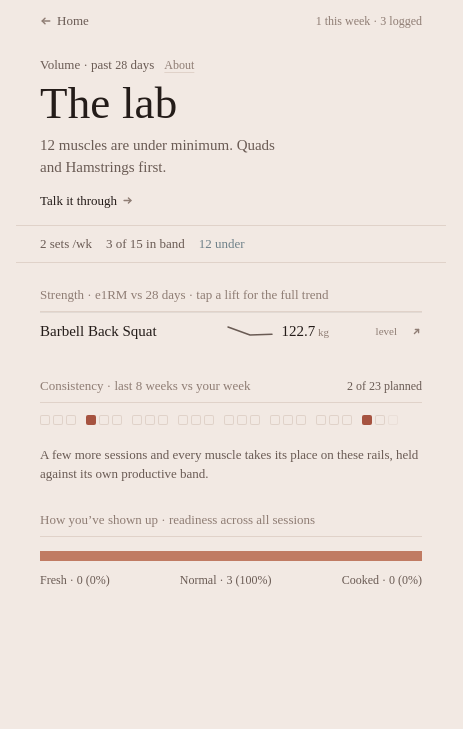
Test: PerformanceLab — personal best line › shows the max e1RM across all history, older than the trend window included
Click the button "Barbell Back Squat 122.7 kg level": (231, 331) [40,322,422,341]
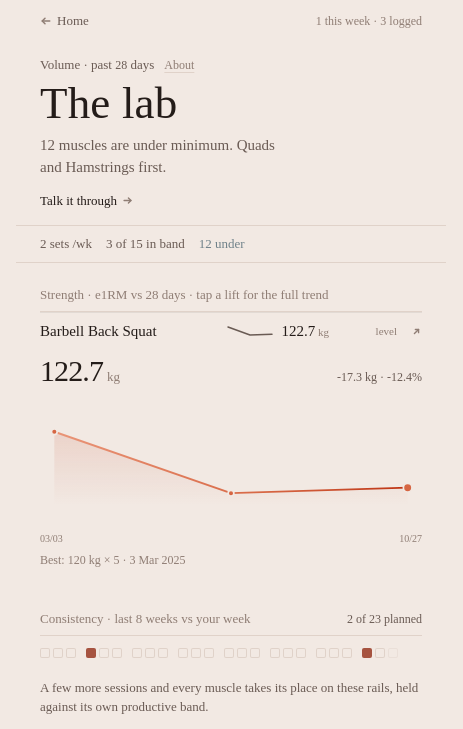
Check: the element with test id "lift-best" reads "Best: 120 kg × 5 · 3 Mar 2025", box [40,552,186,566]
